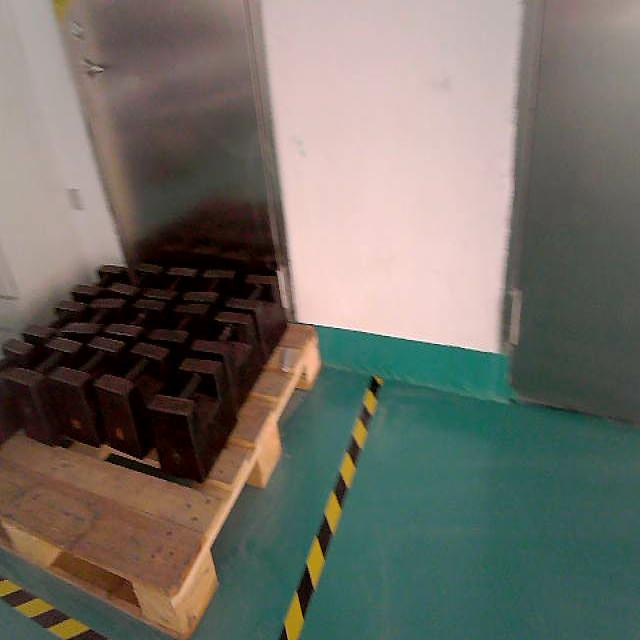euro: (0, 319, 322, 636)
